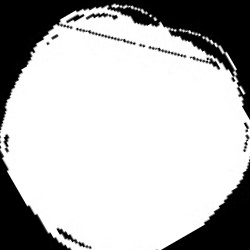spot: (2, 5, 248, 248)
